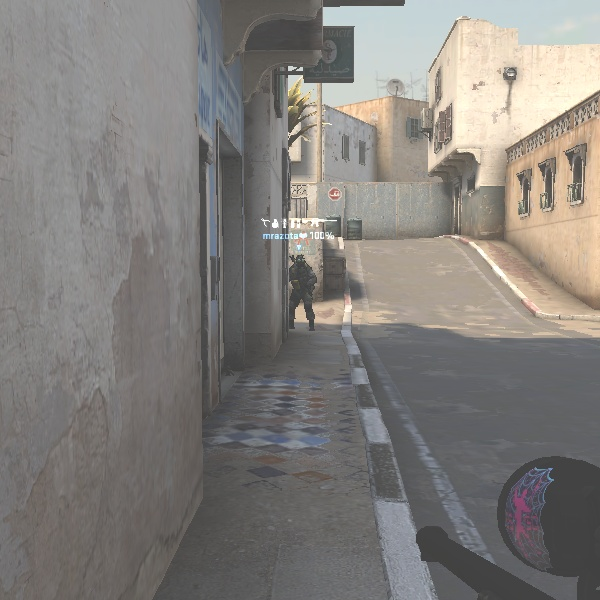ct_body: (283, 248, 321, 331)
